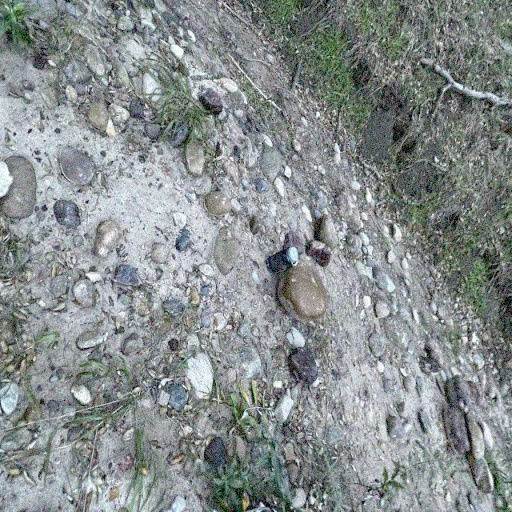bottle: (266, 246, 298, 273)
